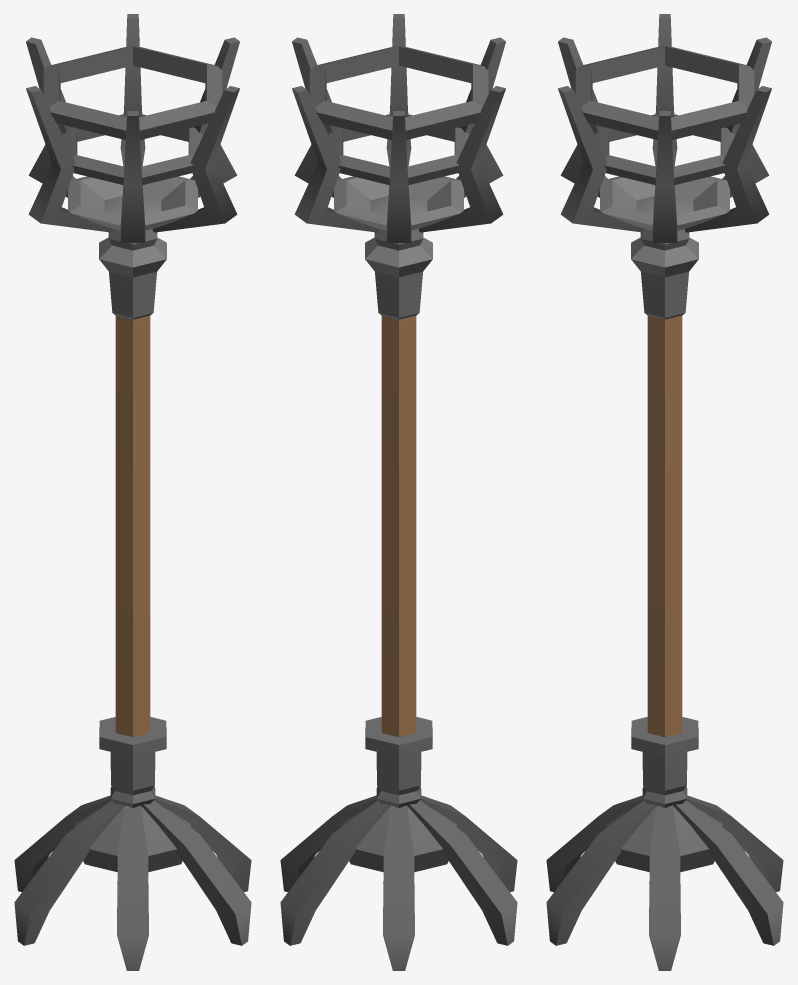
The model's file is Torch_Steel_C.fbx.
3 renders of one model, left to right at view 1: azimuth 30°, elevation 25°; view 2: azimuth 150°, elevation 25°; view 3: azimuth 270°, elevation 25°, orthographic.
Visible parts, largest first — view 1: Torch_Steel_C; view 2: Torch_Steel_C; view 3: Torch_Steel_C.
Part boxes in pixels (box(x1,y1,x2,y2)): Torch_Steel_C: box(14, 14, 251, 970); Torch_Steel_C: box(280, 14, 517, 970); Torch_Steel_C: box(546, 14, 783, 970).
Size of the model in its own units: 56.09 by 204 by 51.42.
